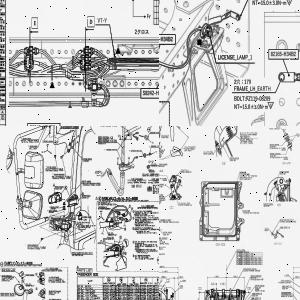PartNumber: (246, 95, 270, 102), (270, 51, 297, 57), (142, 89, 159, 96), (159, 36, 173, 43), (29, 124, 55, 126), (140, 292, 153, 295), (103, 292, 115, 295), (103, 287, 115, 290), (128, 292, 140, 295), (128, 287, 140, 290), (128, 285, 140, 288), (269, 143, 279, 146), (54, 173, 63, 176), (150, 144, 159, 147), (103, 295, 116, 297), (115, 297, 128, 299), (140, 295, 153, 297), (140, 290, 153, 292), (140, 285, 153, 287), (130, 150, 142, 152), (103, 297, 115, 299), (103, 290, 115, 292), (103, 286, 115, 288), (116, 295, 128, 297), (116, 292, 128, 294), (116, 290, 128, 292), (116, 288, 128, 290), (116, 285, 128, 287), (128, 297, 140, 299), (128, 295, 140, 297), (128, 290, 140, 292), (140, 298, 152, 300), (140, 288, 152, 290), (152, 289, 159, 292), (60, 126, 70, 128), (54, 186, 64, 188), (250, 275, 260, 277), (263, 203, 273, 205), (44, 140, 53, 142), (29, 146, 38, 148), (47, 166, 56, 168), (1, 268, 10, 270), (2, 275, 11, 277), (72, 252, 81, 254), (82, 194, 91, 196), (82, 180, 91, 182), (83, 158, 92, 160), (98, 140, 107, 142), (98, 139, 107, 141), (98, 136, 107, 138), (150, 131, 159, 133), (163, 232, 172, 234), (255, 284, 264, 286), (280, 170, 289, 172), (230, 158, 239, 160), (23, 138, 31, 140), (49, 210, 57, 212), (51, 206, 59, 208), (28, 244, 36, 246), (1, 294, 9, 296), (1, 292, 9, 294), (26, 274, 34, 276), (98, 138, 106, 140), (159, 163, 167, 165), (103, 299, 115, 300), (115, 299, 127, 300), (128, 299, 140, 300), (140, 299, 152, 300), (153, 297, 159, 299), (153, 295, 159, 297), (153, 292, 159, 294), (153, 287, 159, 289), (153, 285, 159, 287), (159, 237, 165, 239), (60, 126, 69, 127), (1, 270, 10, 271), (270, 153, 279, 154), (152, 299, 159, 300), (153, 289, 159, 290)
